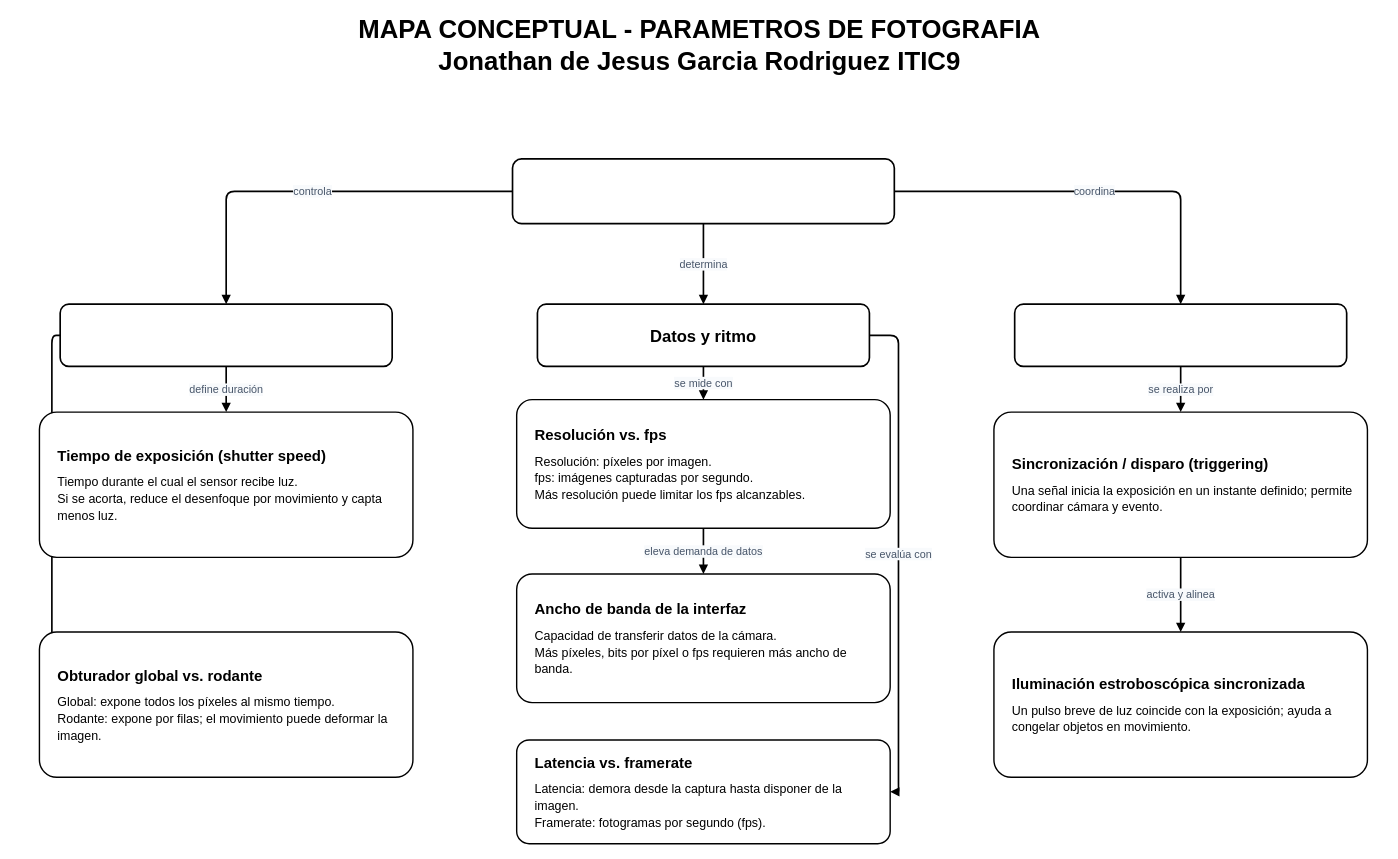
Some shapes in this 1398 by 859 pixel diagram are drawn without their labels. Here are the shapes that lost their labels. From the top down, the centre of each, then its label:
At (x=703, y=191): "Captura de imágenes".
At (x=226, y=335): "Exposición y lectura".
At (x=1180, y=335): "Sincronización".
